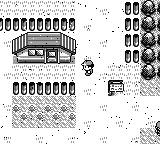leer: (108, 80, 124, 96)
main: (81, 60, 94, 76)
no-caminable: (140, 0, 159, 80), (1, 18, 75, 31), (125, 1, 139, 64), (12, 82, 74, 95)
npc: (155, 121, 160, 136)
puerta: (46, 49, 58, 63)
